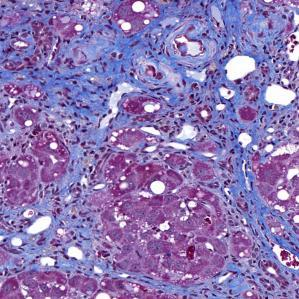fibrosis: (61, 34, 227, 123)
